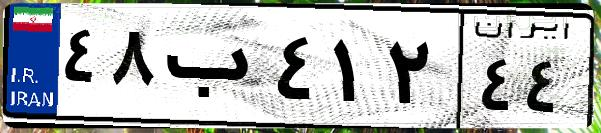1: (330, 28, 385, 110)
2: (385, 28, 445, 110)
4: (270, 28, 330, 110), (57, 26, 110, 100), (475, 38, 525, 113), (525, 38, 570, 115)
8: (110, 28, 158, 98)
ب: (158, 20, 270, 120)
